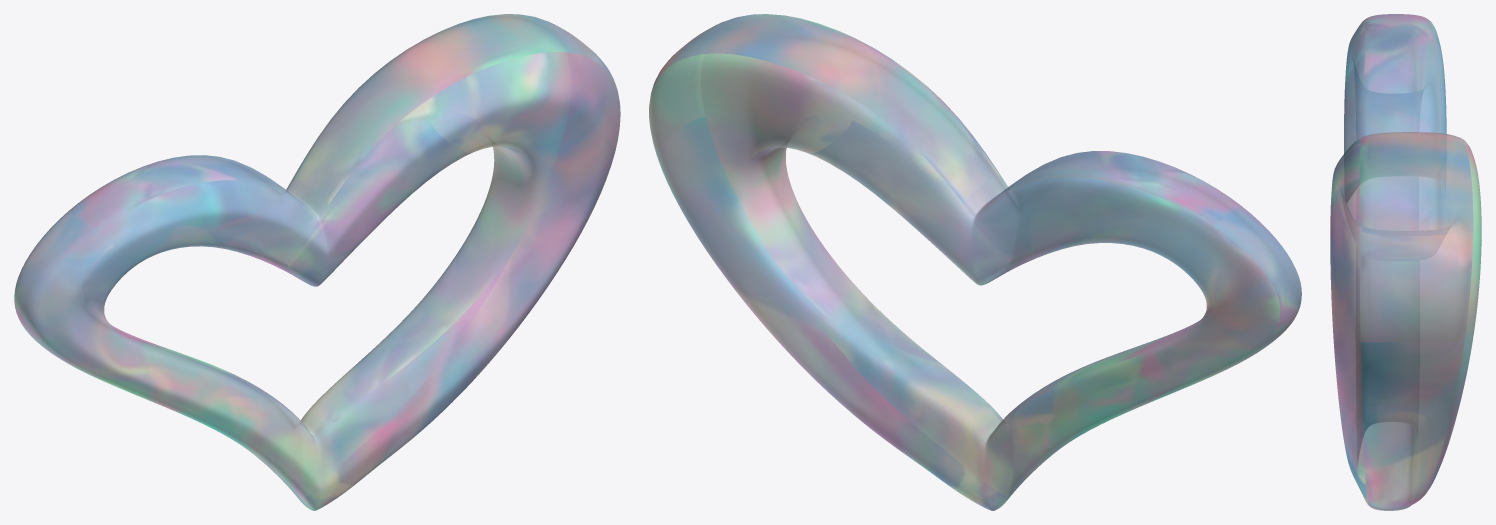
3 renders of one model, left to right at view 1: azimuth 30°, elevation 25°; view 2: azimuth 150°, elevation 25°; view 3: azimuth 270°, elevation 25°, orthographic. The views are drawn at different scales.
Parts seen in each view (by area): view 1: Heart.001; view 2: Heart.001; view 3: Heart.001.
Part boxes in pixels (<box>): Heart.001: <box>14,14,620,510</box>; Heart.001: <box>649,14,1301,510</box>; Heart.001: <box>1330,14,1481,510</box>.
Size of the model in its own units: 3.27 by 2.21 by 0.6635.
1 material, 1 textured.
